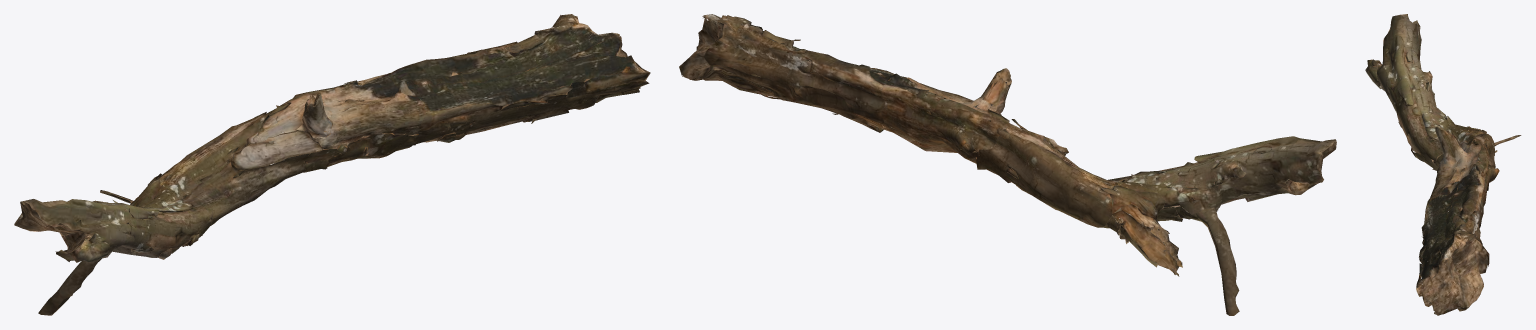
Rendered from dead_tree_trunk_02.glb.
The picture shows the model from 3 angles, left to right: view 1: azimuth 30°, elevation 25°; view 2: azimuth 150°, elevation 25°; view 3: azimuth 270°, elevation 25°; orthographic projection. The views are drawn at different scales.
Visible parts, largest first — view 1: dead_tree_trunk_02; view 2: dead_tree_trunk_02; view 3: dead_tree_trunk_02.
Part boxes in pixels (<box>): dead_tree_trunk_02: <box>14,14,650,315</box>; dead_tree_trunk_02: <box>679,14,1336,315</box>; dead_tree_trunk_02: <box>1365,14,1521,315</box>.
Size of the model in its own units: 4.05 by 1.06 by 1.05.
1 material, 1 textured.
